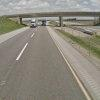Bridge: (3, 4, 98, 22)
